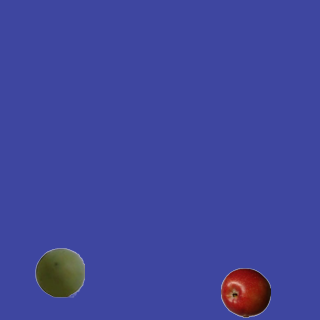Apple Braeburn: (220, 267, 270, 317)
Grape White 4: (34, 247, 84, 297)
